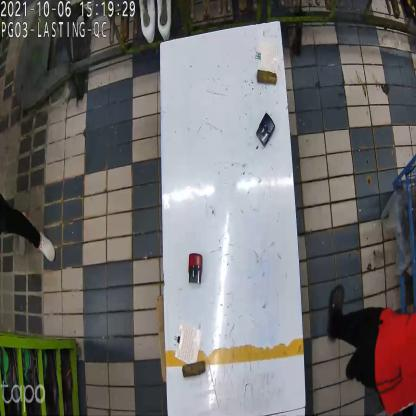stamp: (257, 111, 275, 148), (185, 252, 204, 286)
